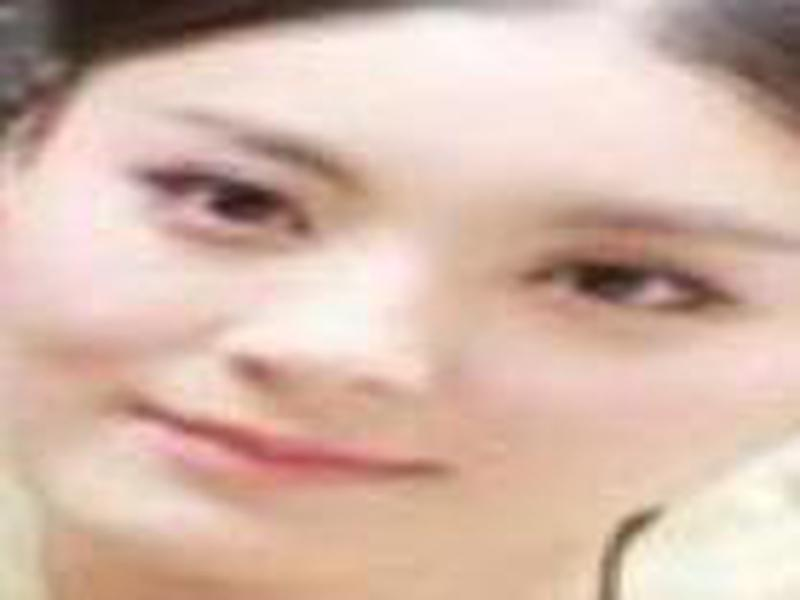without_mask: (8, 29, 791, 589)
